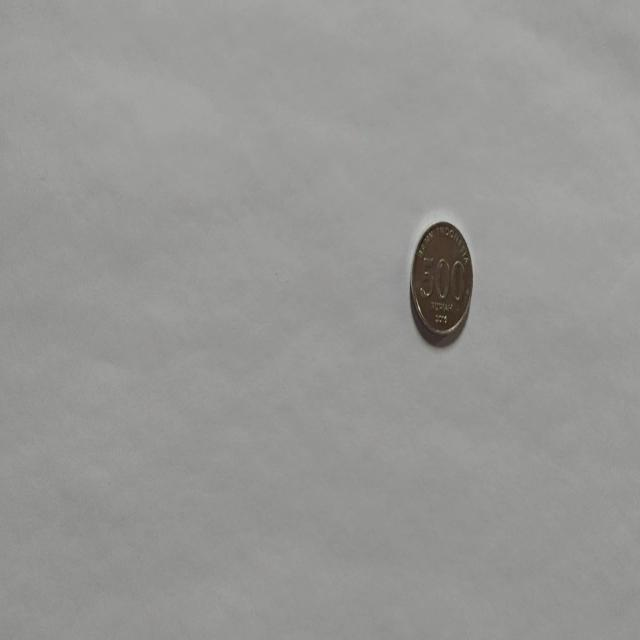lima ratus rupiah: (408, 219, 474, 345)
